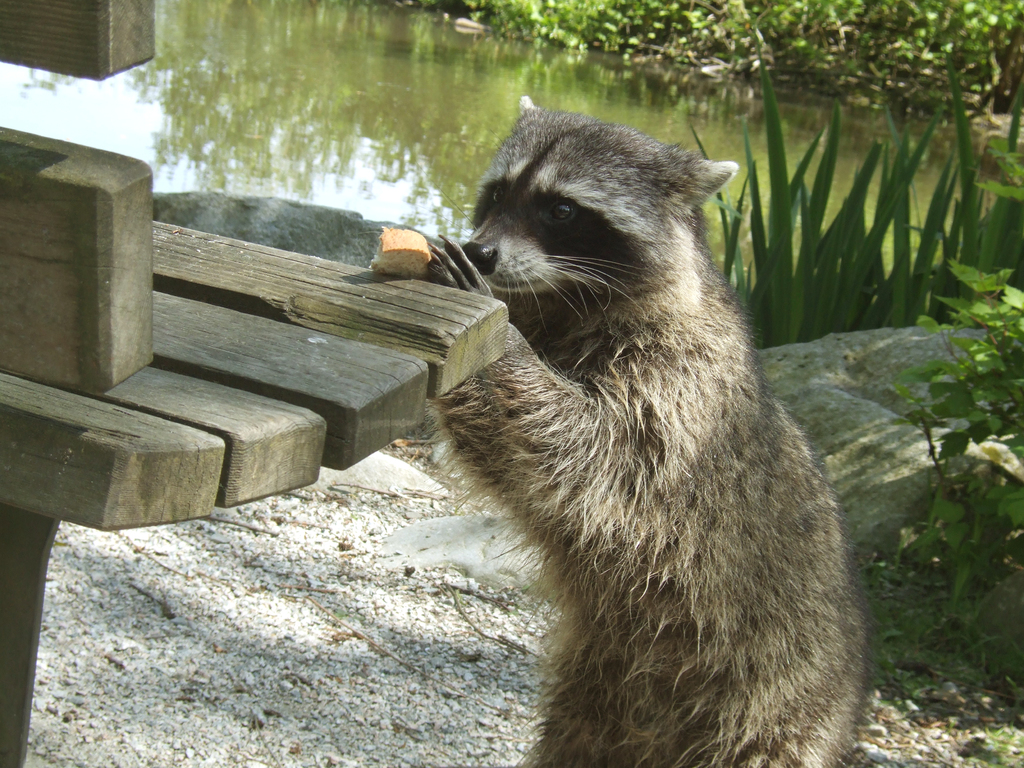raccoon: (427, 89, 877, 768)
